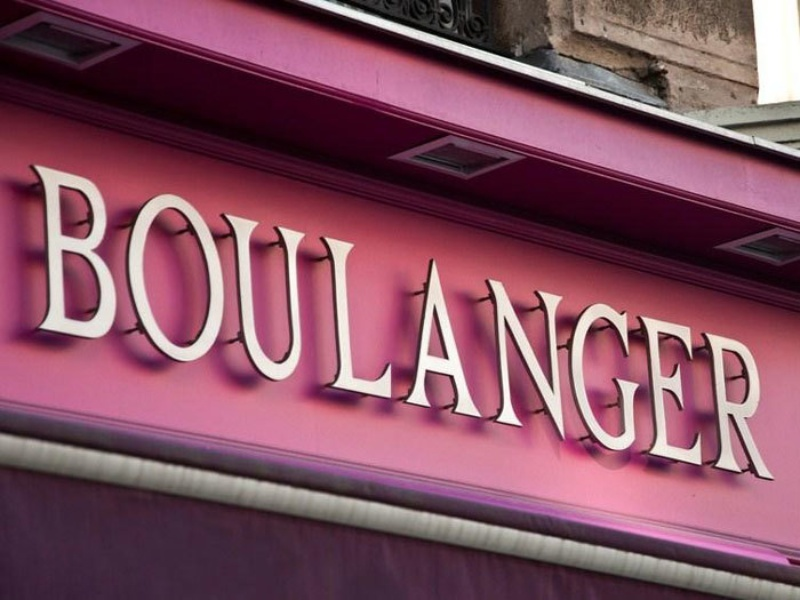text: (33, 158, 48, 483), (49, 158, 64, 483), (65, 158, 80, 483), (81, 158, 96, 483), (97, 158, 112, 483), (113, 158, 128, 483), (129, 158, 144, 483), (145, 158, 160, 483), (161, 158, 176, 483), (177, 158, 192, 483), (193, 158, 208, 483), (209, 158, 224, 483), (225, 158, 240, 483), (241, 158, 256, 483), (257, 158, 272, 483), (273, 158, 288, 483), (289, 158, 304, 483), (305, 158, 320, 483), (321, 158, 336, 483), (337, 158, 352, 483), (353, 158, 368, 483), (369, 158, 384, 483), (385, 158, 400, 483), (401, 158, 416, 483), (417, 158, 432, 483), (433, 158, 448, 483), (449, 158, 464, 483), (465, 158, 480, 483), (481, 158, 496, 483), (497, 158, 512, 483), (513, 158, 528, 483), (529, 158, 544, 483), (545, 158, 560, 483), (561, 158, 576, 483), (577, 158, 592, 483), (593, 158, 608, 483), (609, 158, 624, 483), (625, 158, 640, 483), (641, 158, 656, 483), (657, 158, 672, 483), (673, 158, 688, 483), (689, 158, 704, 483), (705, 158, 720, 483), (721, 158, 736, 483), (737, 158, 752, 483), (753, 158, 768, 483), (769, 158, 775, 483), (28, 158, 32, 483)
